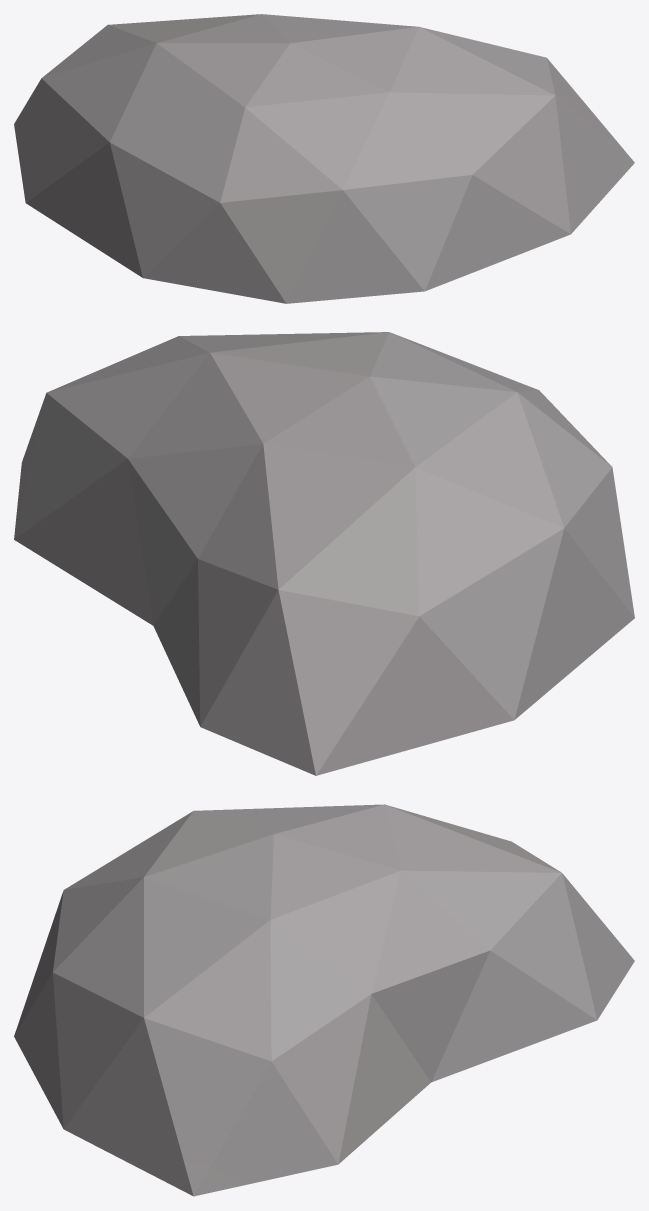
The model's file is Rock_Round_s_01.fbx.
3 views of the same model, one above another, from view 1: azimuth 30°, elevation 25°; view 2: azimuth 150°, elevation 25°; view 3: azimuth 270°, elevation 25° (orthographic). The views are drawn at different scales.
Visible parts, largest first — view 1: Rock_Round_s_01; view 2: Rock_Round_s_01; view 3: Rock_Round_s_01.
Boxes of the visible parts, box(x1,y1,x2,y2) form: Rock_Round_s_01: box(14, 14, 634, 303); Rock_Round_s_01: box(14, 332, 634, 775); Rock_Round_s_01: box(14, 804, 634, 1196).
Size of the model in its own units: 51.58 by 16.81 by 49.15.
